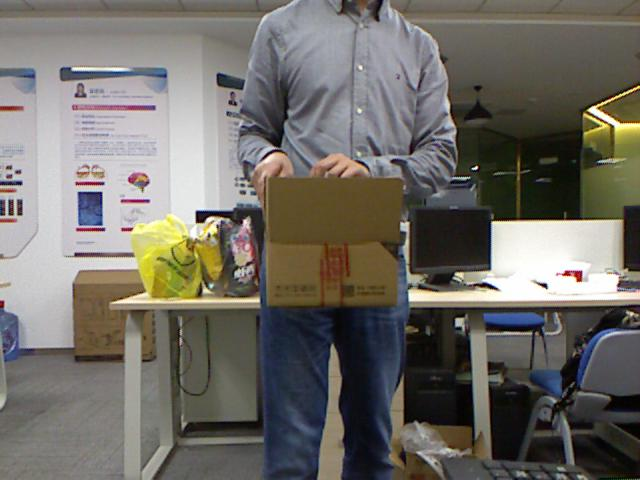cardboard paper: (264, 177, 401, 305)
